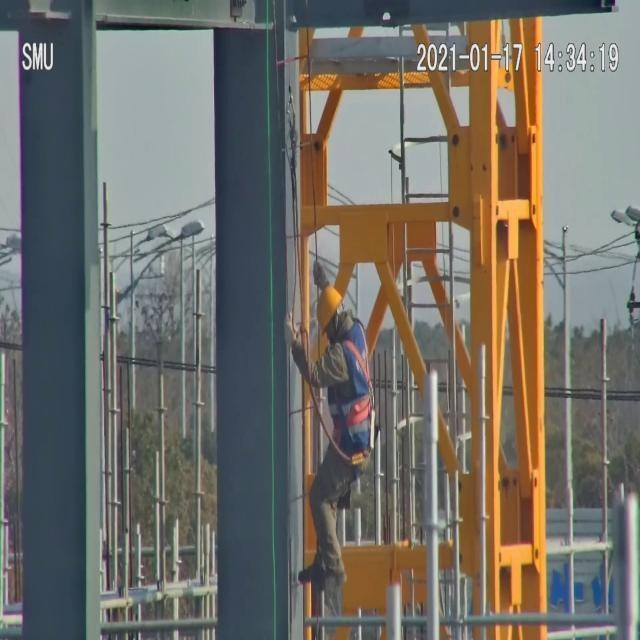Arnes_seguridad: (326, 312, 379, 436)
